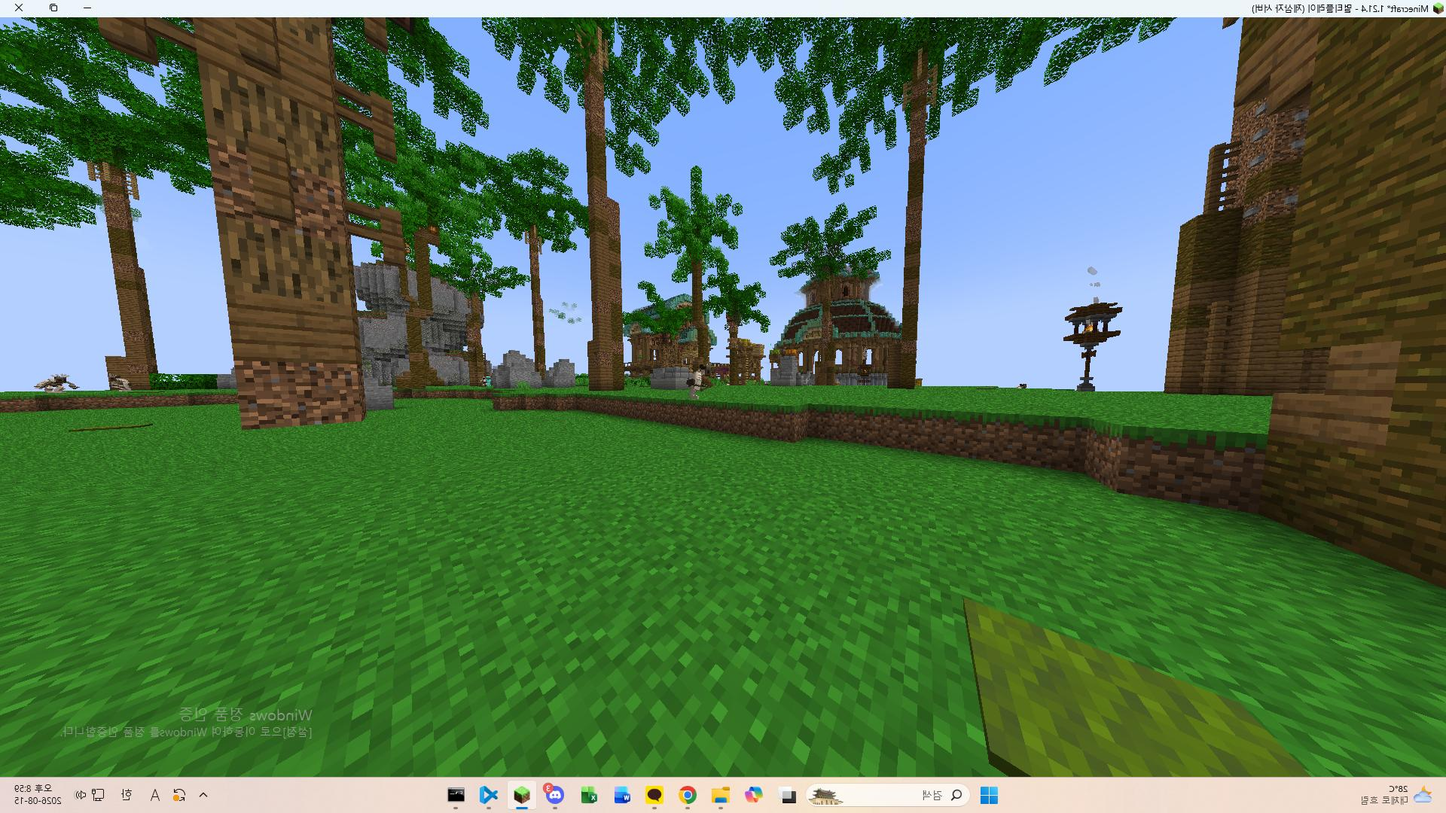bow_indian: (678, 356, 719, 408)
